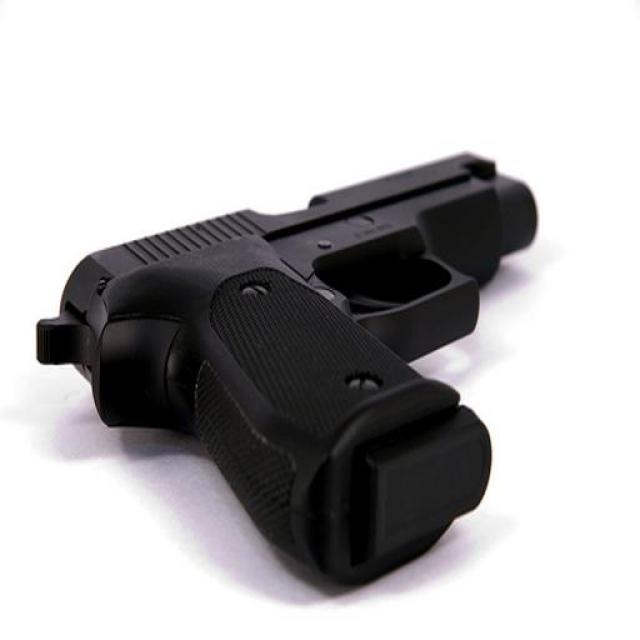pistol: (35, 148, 539, 574)
